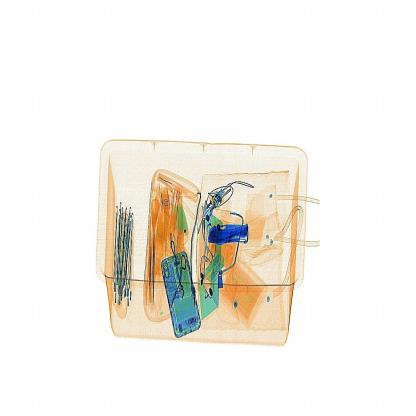knife: (208, 222, 254, 252)
